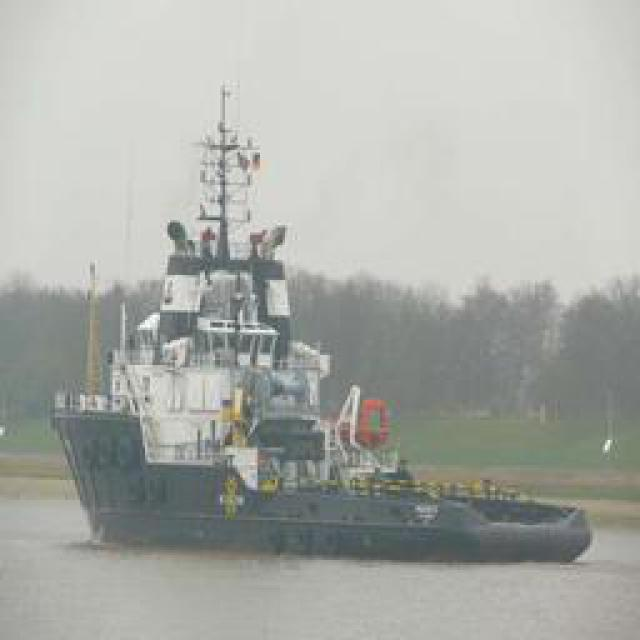Ship: (50, 162, 585, 560)
